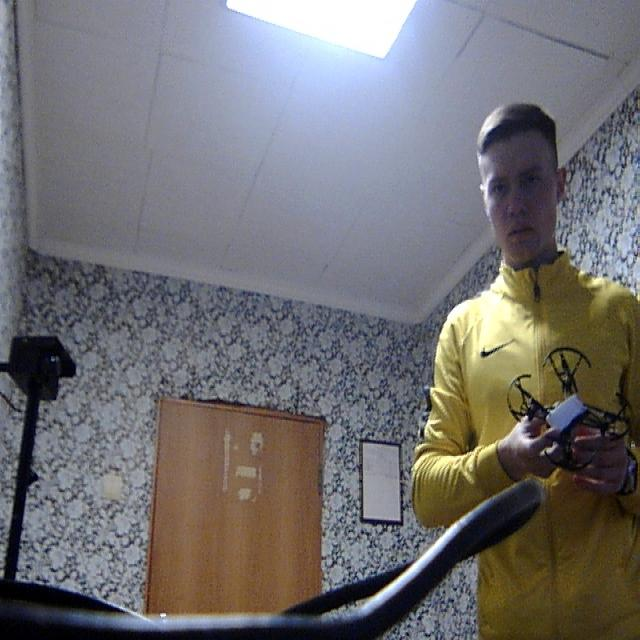drone: (502, 335, 628, 483)
